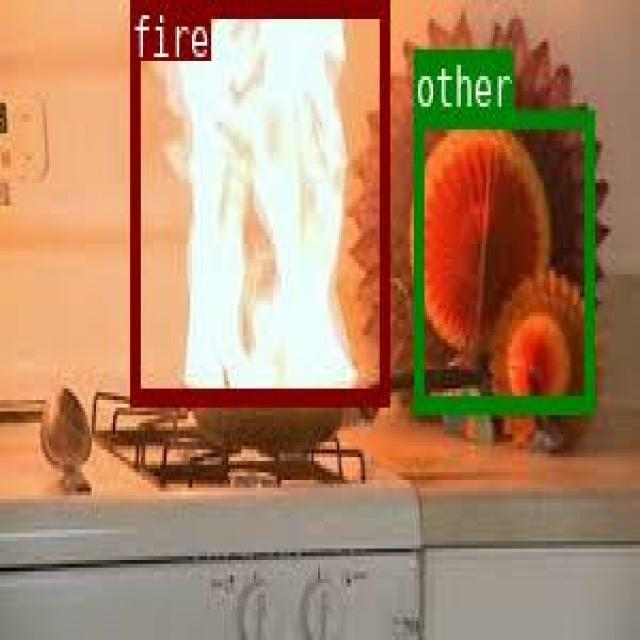fire: (129, 0, 387, 400)
